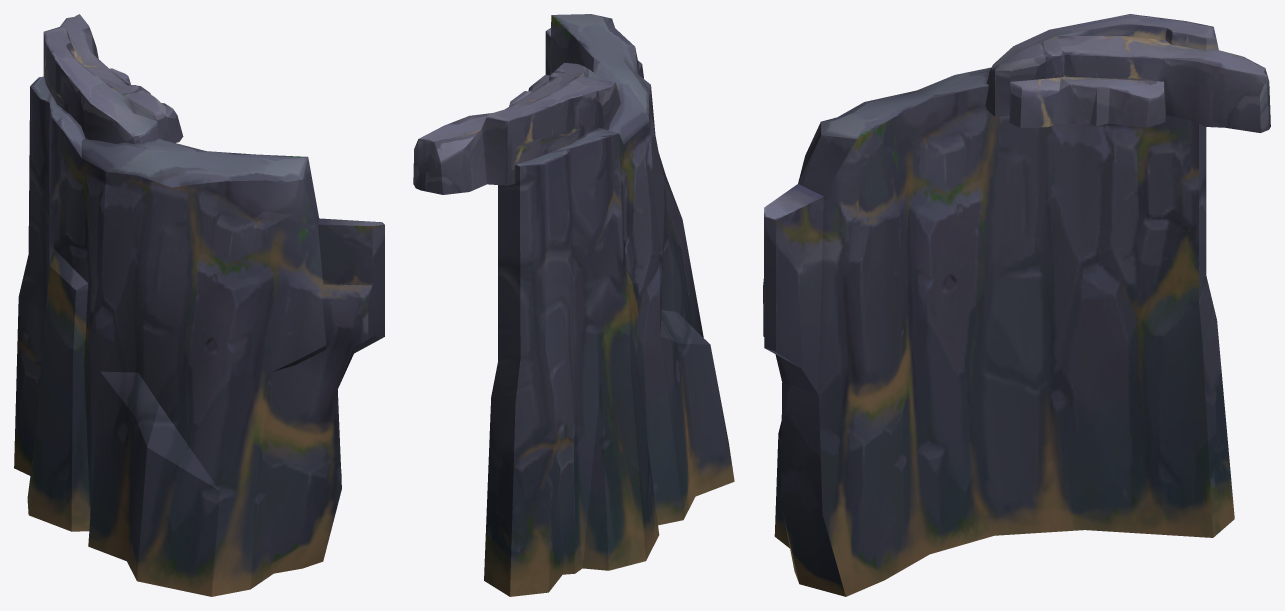
Rendered from scene_malujiakuangdao_shan06_1.FBX.
3 views of the same model, side by side, from view 1: azimuth 30°, elevation 25°; view 2: azimuth 150°, elevation 25°; view 3: azimuth 270°, elevation 25° (orthographic). The views are drawn at different scales.
Visible parts, largest first — view 1: scene_malujiakuangdao_shan06_1; view 2: scene_malujiakuangdao_shan06_1; view 3: scene_malujiakuangdao_shan06_1.
Boxes of the visible parts, x1,y1,x2,y2 form: scene_malujiakuangdao_shan06_1: [14, 14, 384, 596]; scene_malujiakuangdao_shan06_1: [413, 14, 734, 596]; scene_malujiakuangdao_shan06_1: [763, 14, 1270, 596].
Size of the model in its own units: 836 by 1525 by 1407.
